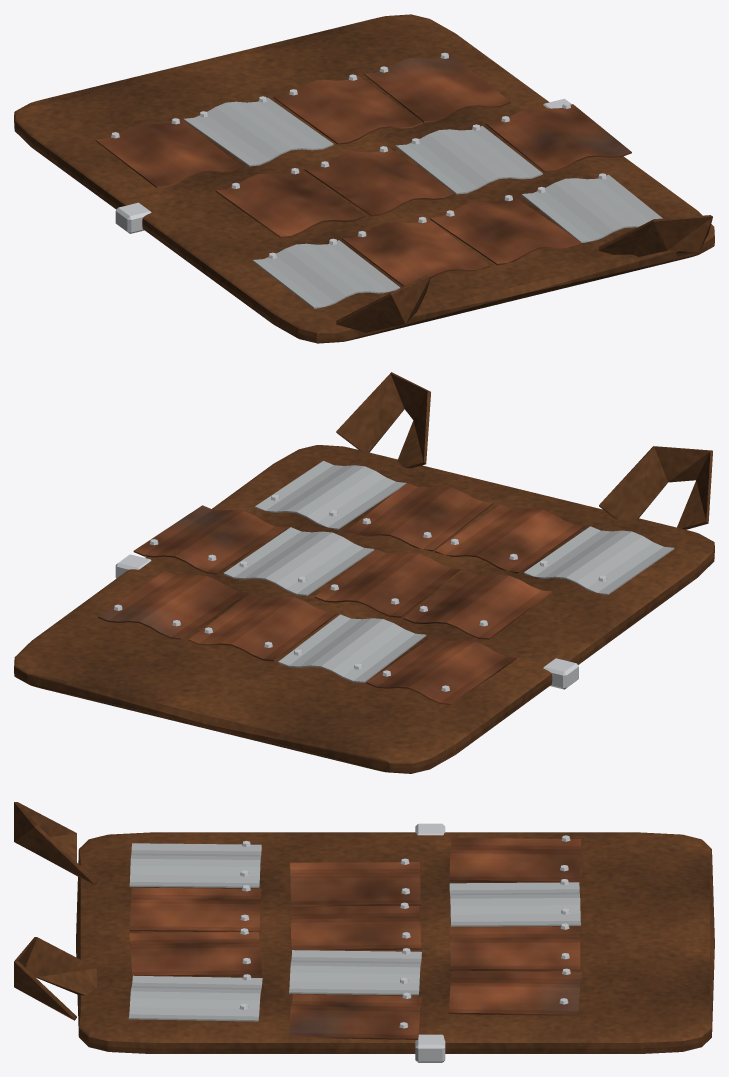
The model's file is colete_sucata.glb.
3 renders of one model, top to bottom at view 1: azimuth 30°, elevation 25°; view 2: azimuth 150°, elevation 25°; view 3: azimuth 270°, elevation 25°, orthographic.
Parts seen in each view (by area): view 1: colete_sucata_couro, colete_sucata_ferrugem, colete_sucata_galvanizado, colete_sucata_aco; view 2: colete_sucata_couro, colete_sucata_ferrugem, colete_sucata_galvanizado, colete_sucata_aco; view 3: colete_sucata_couro, colete_sucata_ferrugem, colete_sucata_galvanizado, colete_sucata_aco.
Part boxes in pixels (x1,y1,x2,y2): colete_sucata_couro: (14,14,714,343); colete_sucata_ferrugem: (95,54,631,286); colete_sucata_galvanizado: (183,97,662,308); colete_sucata_aco: (111,52,606,258); colete_sucata_couro: (14,372,714,773); colete_sucata_ferrugem: (98,483,584,704); colete_sucata_galvanizado: (223,461,674,682); colete_sucata_aco: (114,494,607,691); colete_sucata_couro: (14,802,714,1053); colete_sucata_ferrugem: (129,838,581,1039); colete_sucata_galvanizado: (128,843,580,1021); colete_sucata_aco: (239,823,570,1062).
Size of the model in its own units: 0.53 by 0.0788 by 0.7019.
4 materials, 2 textured.
